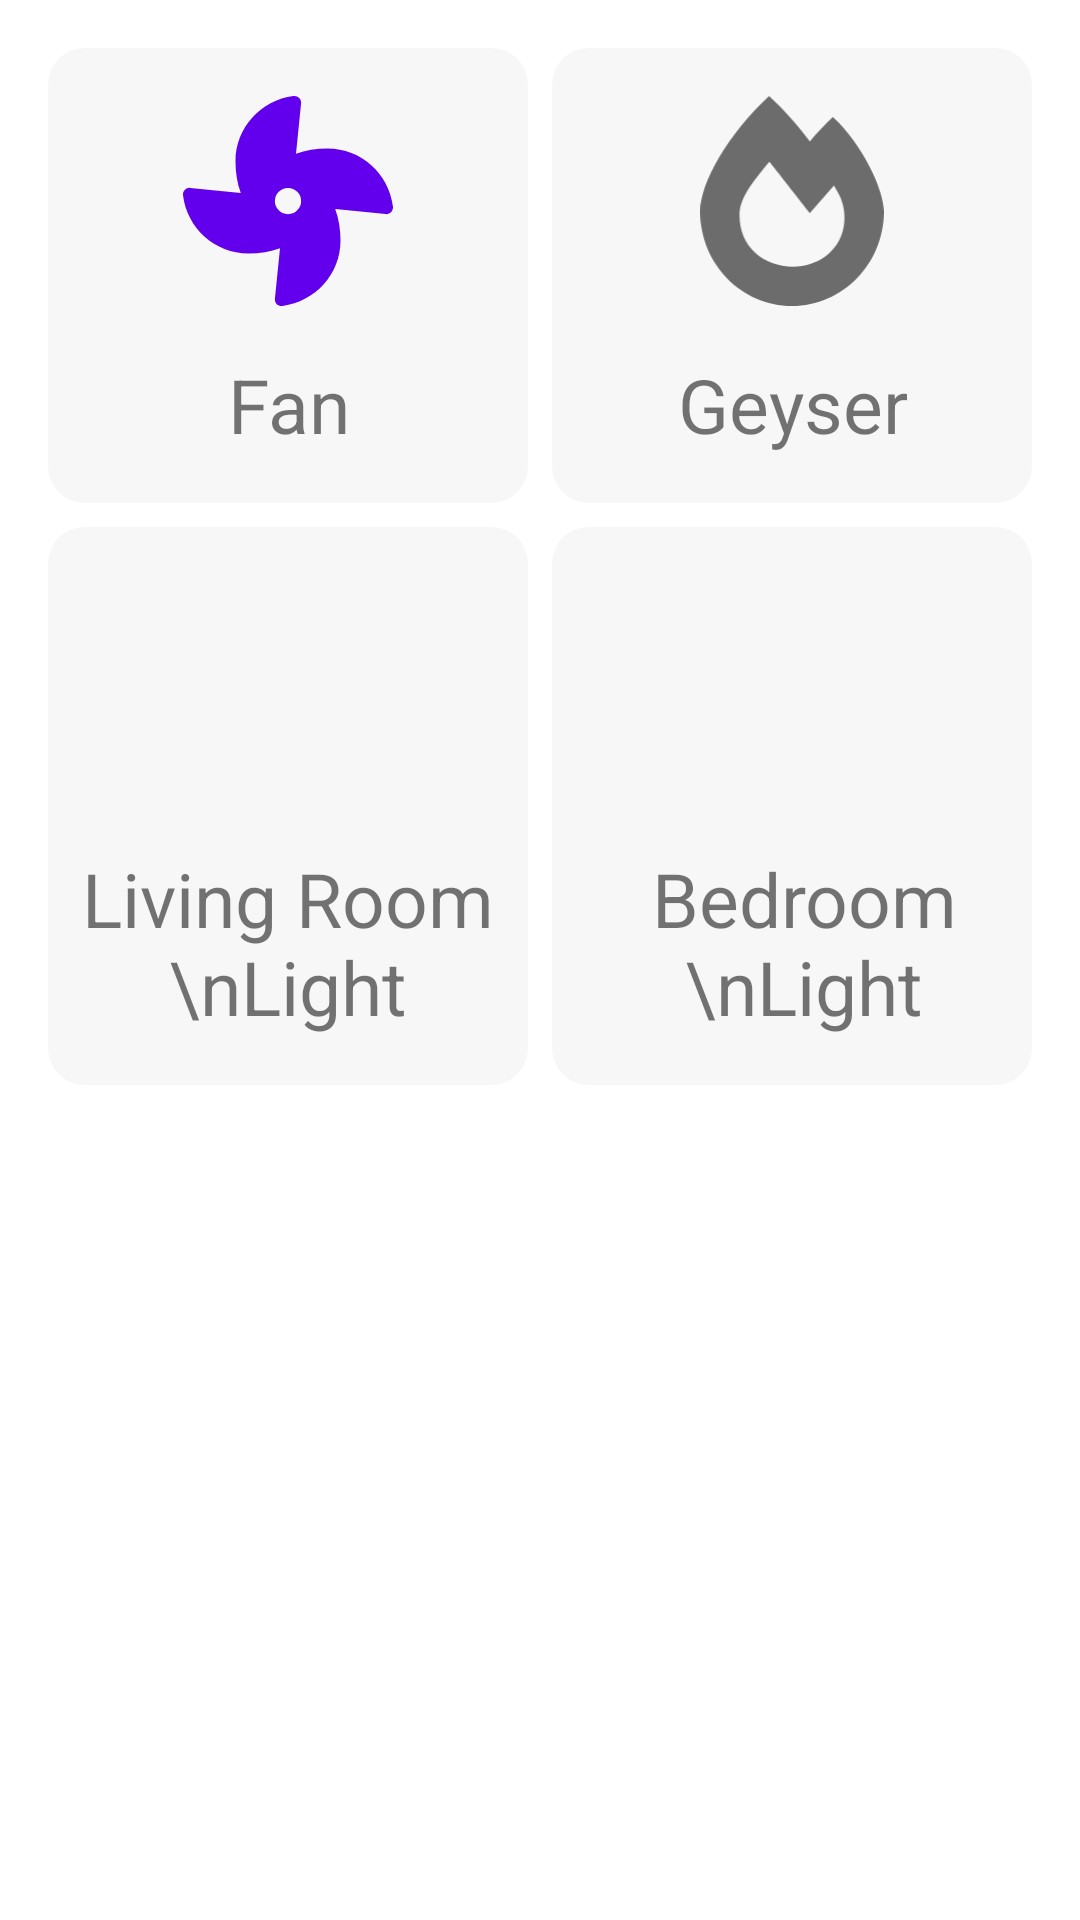

Icon bounding boxes for this 1080*1920 phone screenshot, format detection(x1, y1, x2, y2):
fire: detection(700, 96, 884, 306)
